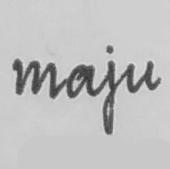a: (64, 62, 96, 100)
j: (99, 43, 120, 136)
m: (12, 57, 59, 101)
u: (123, 58, 154, 95)
